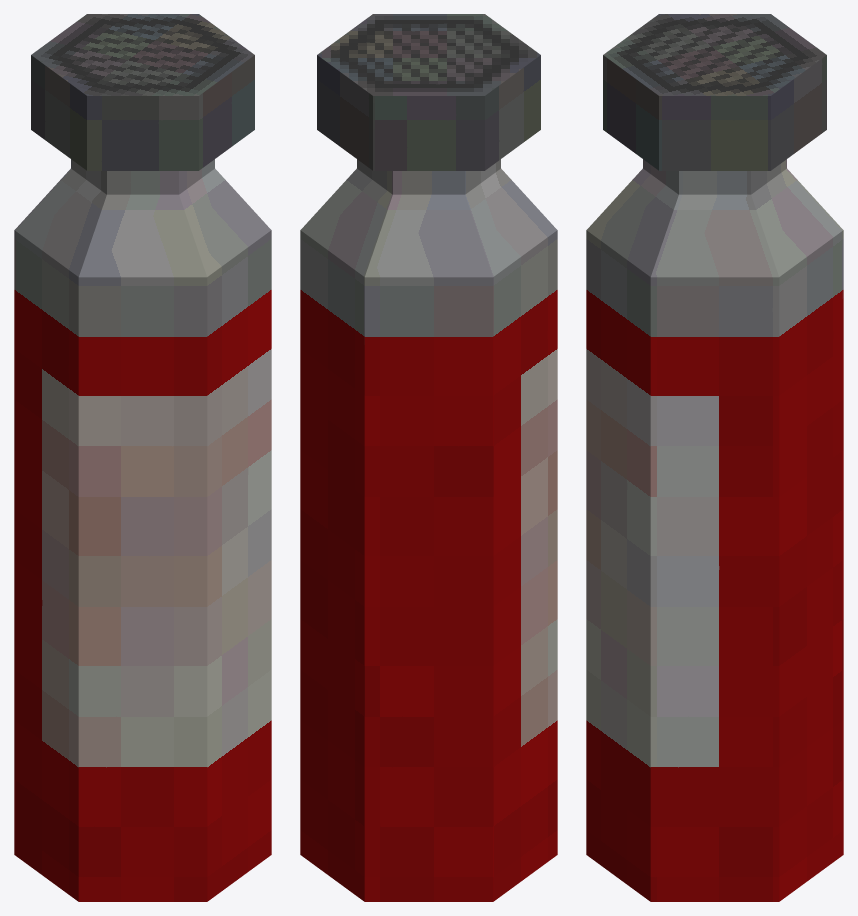
The model's file is Med_6.glb.
The picture shows the model from 3 angles, left to right: view 1: azimuth 30°, elevation 25°; view 2: azimuth 150°, elevation 25°; view 3: azimuth 270°, elevation 25°; orthographic projection.
Visible parts, largest first — view 1: Med_6; view 2: Med_6; view 3: Med_6.
Boxes of the visible parts, bbox=[...] form: Med_6: bbox=[14, 14, 271, 901]; Med_6: bbox=[300, 14, 557, 901]; Med_6: bbox=[586, 14, 843, 901].
Size of the model in its own units: 1.61 by 6.4 by 1.86.
1 material, 1 textured.
